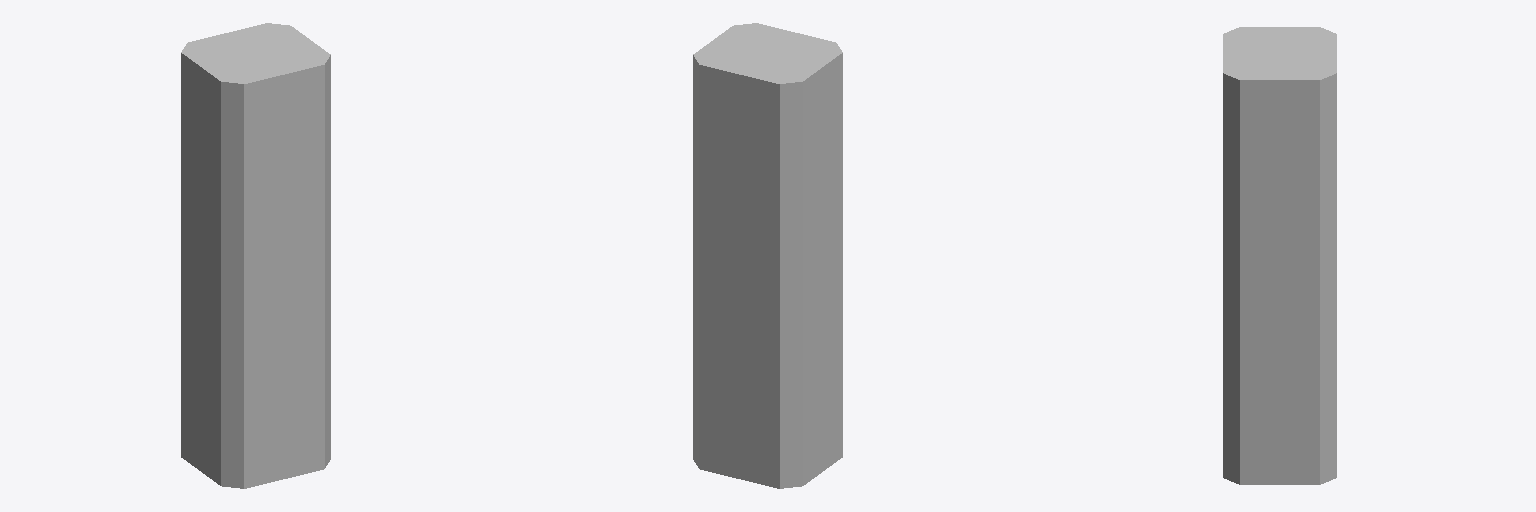
The model's file is Building1.obj.
3 renders of one model, left to right at view 1: azimuth 30°, elevation 25°; view 2: azimuth 150°, elevation 25°; view 3: azimuth 270°, elevation 25°, orthographic.
Parts seen in each view (by area): view 1: Box002; view 2: Box002; view 3: Box002.
Part boxes in pixels (x1,y1,x2,y2): Box002: (181,23,330,488); Box002: (693,23,842,488); Box002: (1223,27,1336,484).
Bounding box in the file's own units: 18.4 × 64.7 × 16.53.